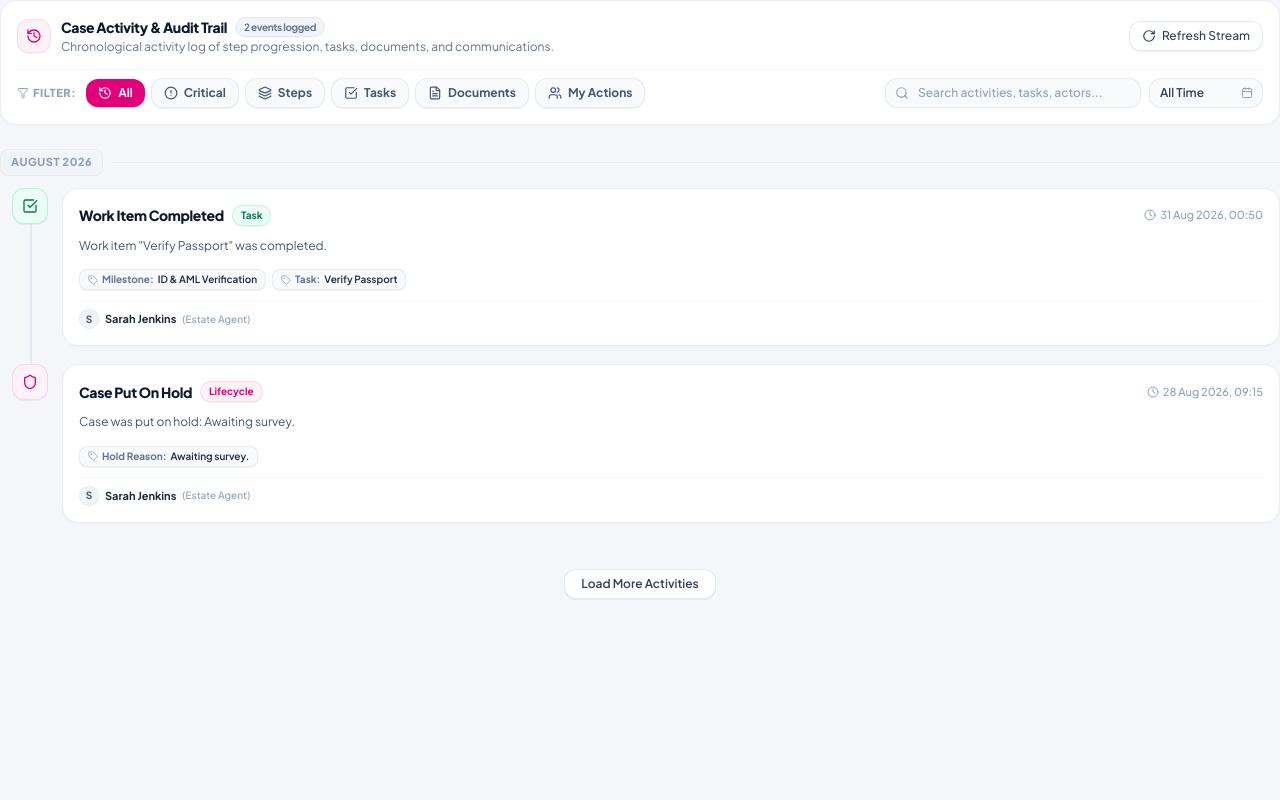
Test: ActivityTimelineTab › filters activities using live text search and clears filters
Expected: the heading "Work Item Completed" is shown, x1=79 y1=205 x2=224 y2=225
Expected: the heading "Case Put On Hold" is shown, x1=79 y1=382 x2=192 y2=402
Note: Type in search box
Type "Passport" into the field with placeholder "Search activities, tasks, actors..." at (1013, 93), box x1=885 y1=78 x2=1141 y2=108
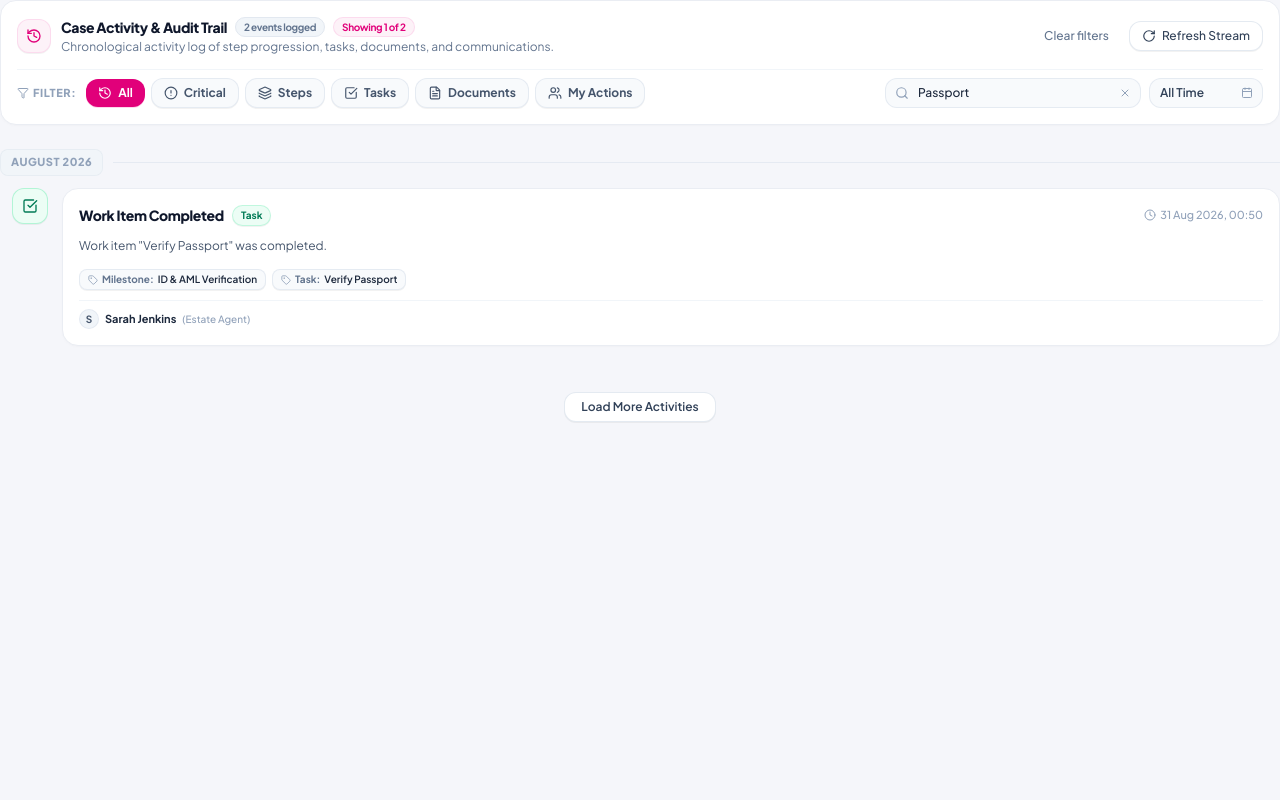
Expected: the heading "Work Item Completed" is shown, x1=79 y1=205 x2=224 y2=225
Expected: the heading "Case Put On Hold" is gone
Note: Click Clear filters button
Click the button "Clear filters" at (1076, 36), box x1=1032 y1=22 x2=1121 y2=50
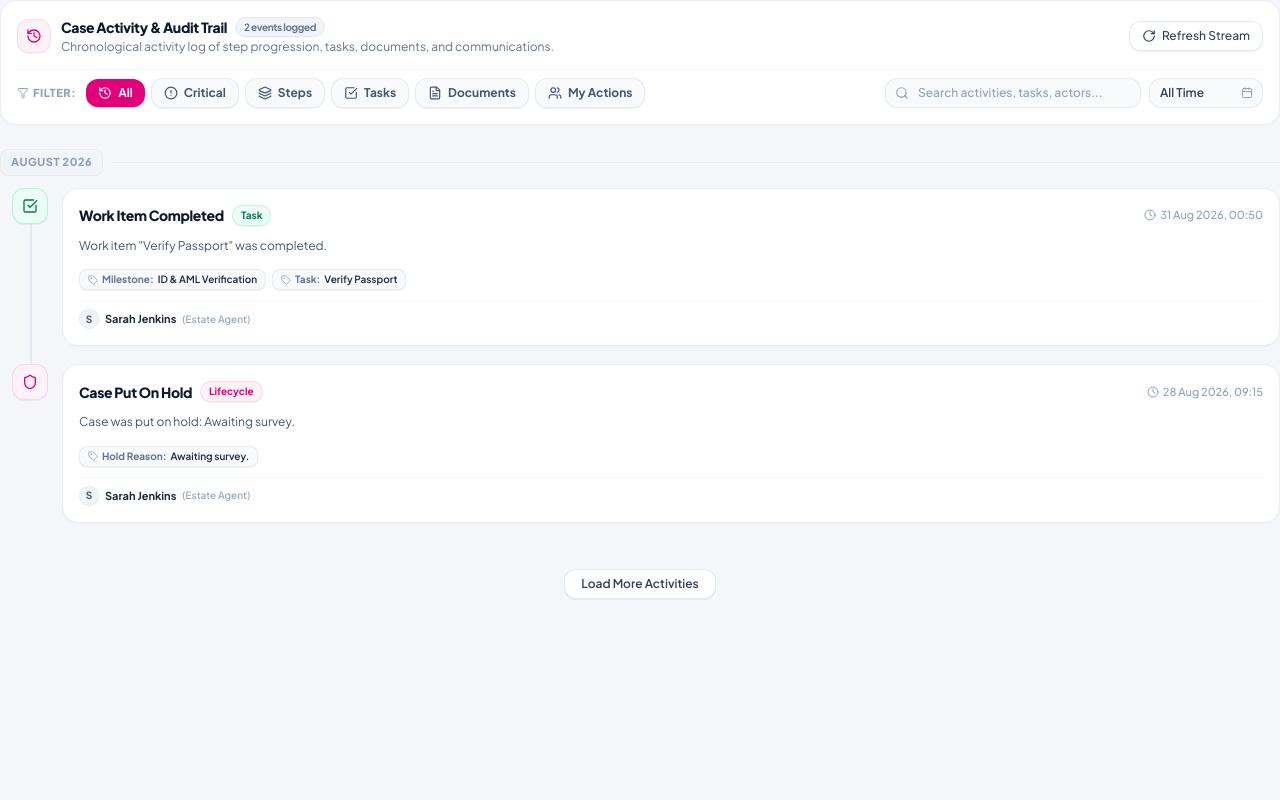
Expected: the heading "Work Item Completed" is shown, x1=79 y1=205 x2=224 y2=225
Expected: the heading "Case Put On Hold" is shown, x1=79 y1=382 x2=192 y2=402
